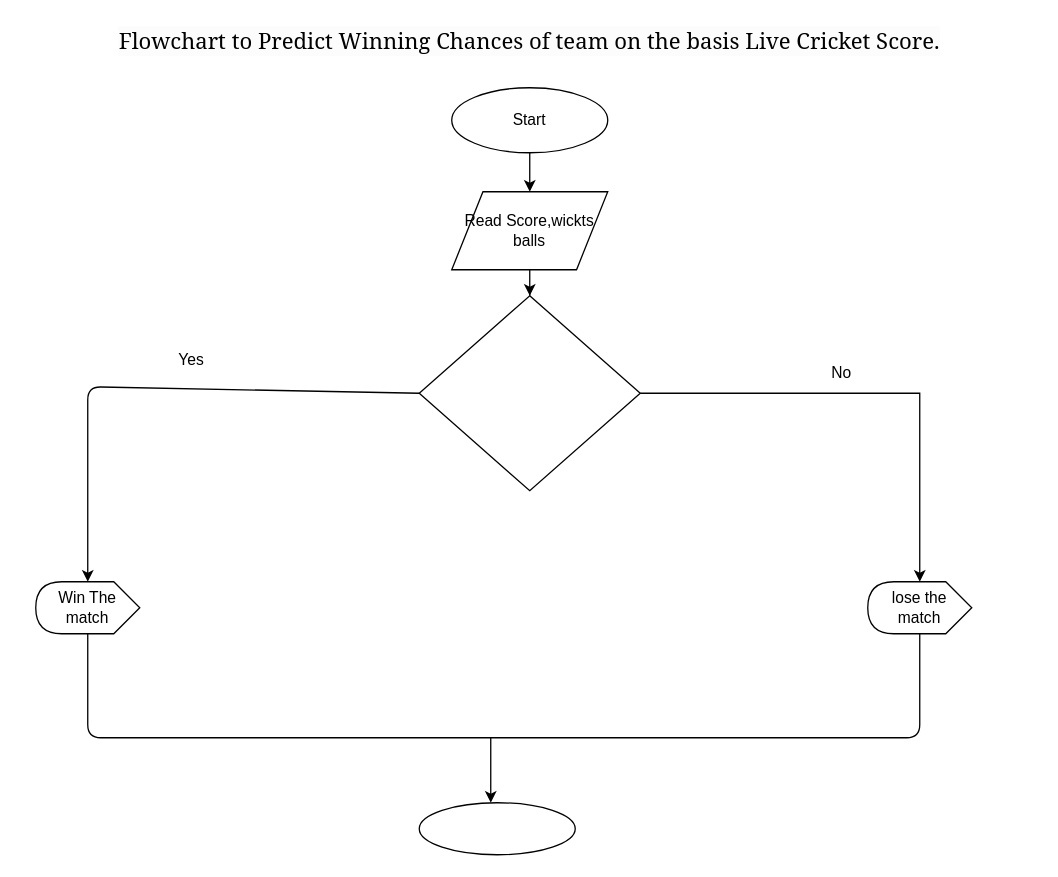
This 1058x877 diagram has some shape labels left out. Each missing label, with the centre of its shape:
"if(score>=traget&&wicket<=10&&balls<=n)" belongs at point (529, 392).
"Stop" belongs at point (496, 828).
